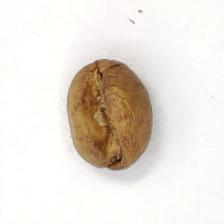NG: (77, 68, 138, 163)
